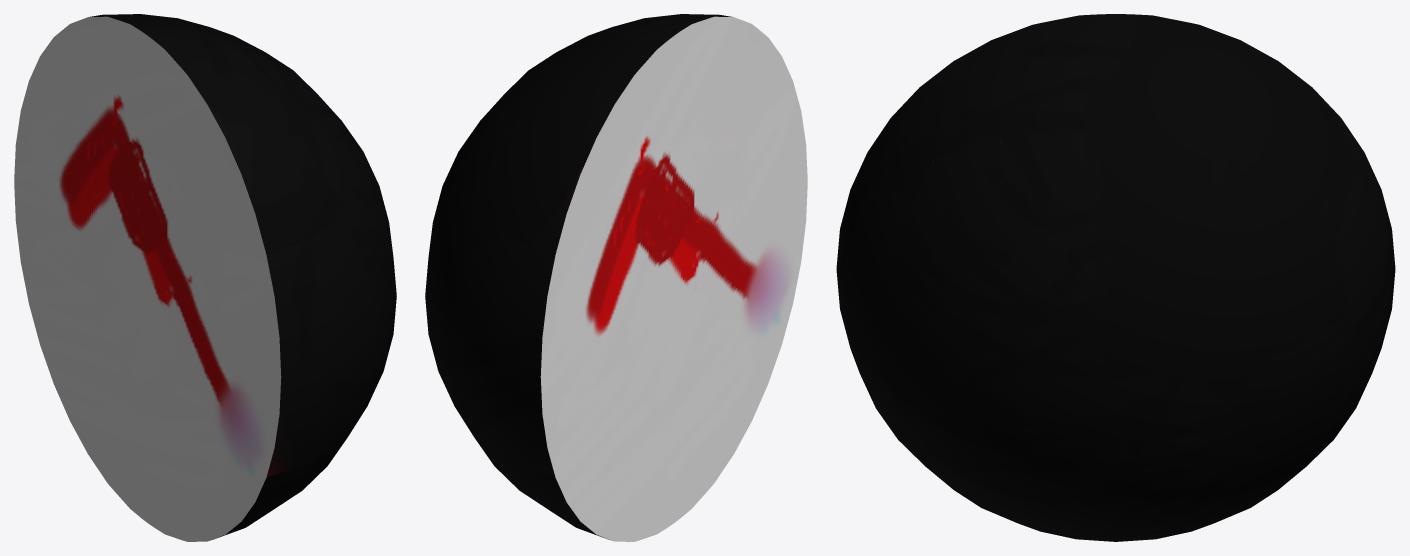
The model's file is health.fbx.
3 views of the same model, side by side, from view 1: azimuth 30°, elevation 25°; view 2: azimuth 150°, elevation 25°; view 3: azimuth 270°, elevation 25° (orthographic). The views are drawn at different scales.
Visible parts, largest first — view 1: pSphere2; view 2: pSphere2; view 3: pSphere2.
Boxes of the visible parts, x1=… form: pSphere2: x1=14, y1=14, x2=396, y2=541; pSphere2: x1=425, y1=14, x2=807, y2=541; pSphere2: x1=836, y1=14, x2=1395, y2=541.
Size of the model in its own units: 0.9143 by 1.99 by 1.97.
